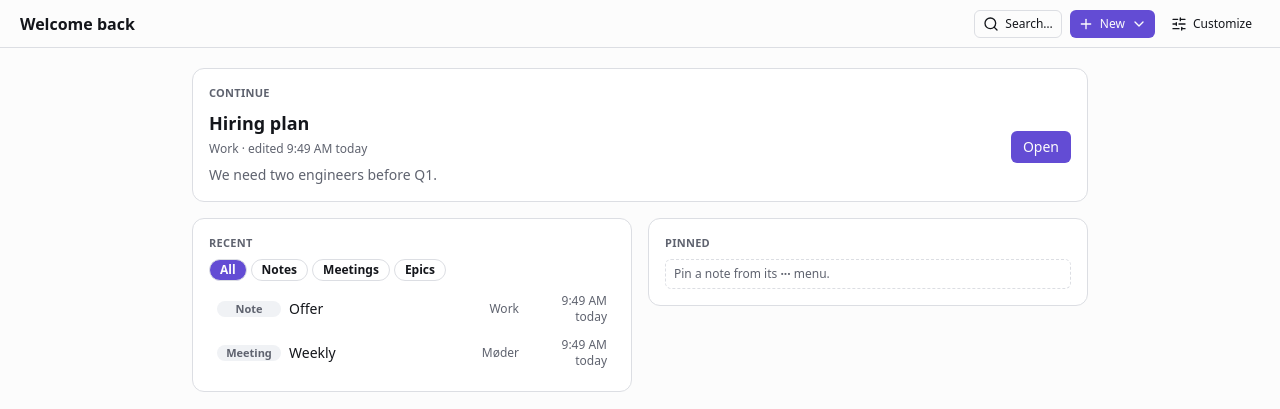
StartPage › filters the recent notes by what they are
Expected: the text "Meeting" is shown, [217,345,281,361]
Click the button "Meetings" at (351, 270), box [312,259,390,281]
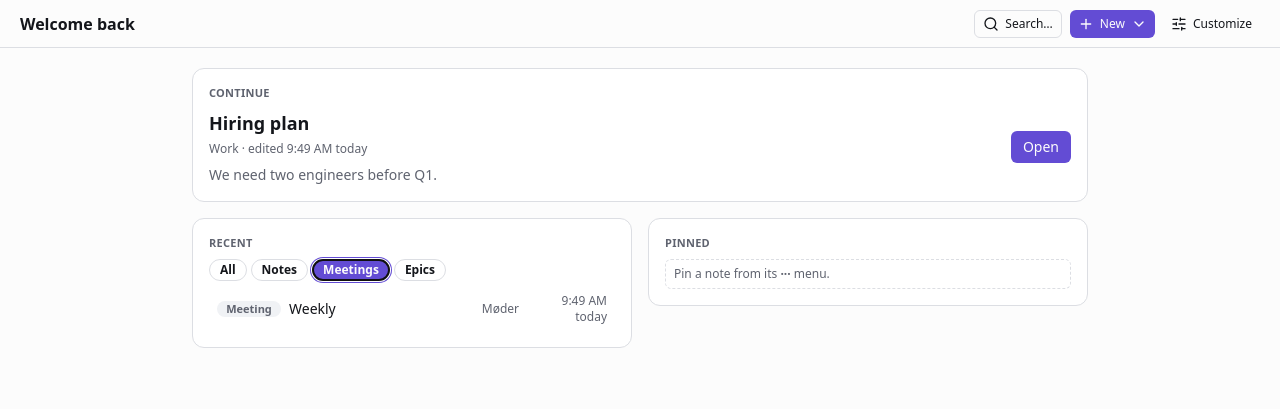
Expected: the button "Meeting Weekly Møder 9:49 AM today" is shown, [209,287,615,331]
Expected: the button "Offer" is gone
